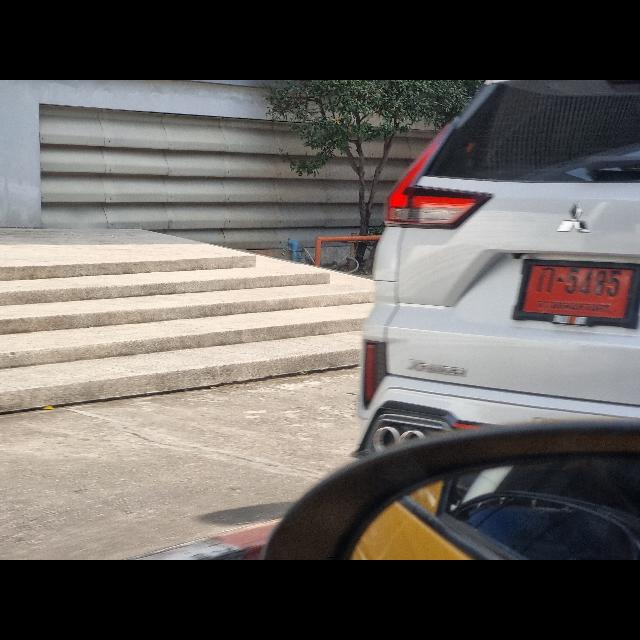licenseplate: (508, 253, 640, 331)
